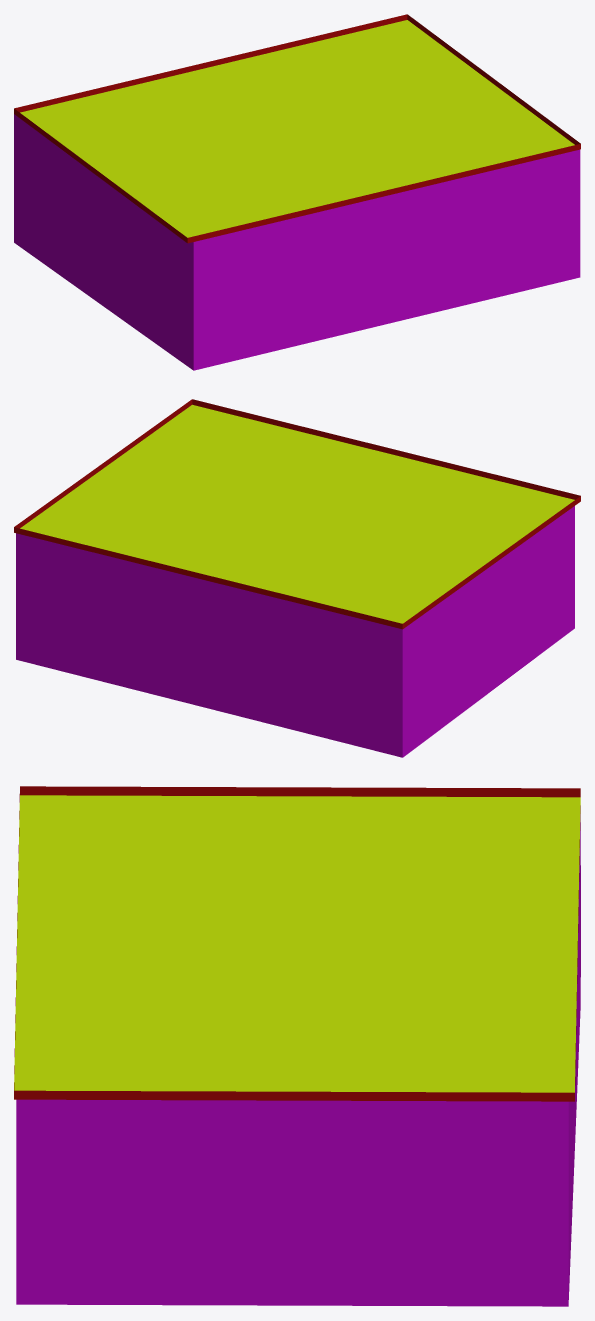
The model's file is bgj_136.glb.
The picture shows the model from 3 angles, top to bottom: view 1: azimuth 30°, elevation 25°; view 2: azimuth 150°, elevation 25°; view 3: azimuth 270°, elevation 25°; orthographic projection. The views are drawn at different scales.
Parts seen in each view (by area): view 1: bgj_136; view 2: bgj_136; view 3: bgj_136.
Part boxes in pixels (x1,y1,x2,y2): bgj_136: (14, 14, 580, 370); bgj_136: (14, 399, 580, 757); bgj_136: (14, 786, 580, 1306).
Size of the model in its own units: 25.75 by 8.39 by 20.14.
